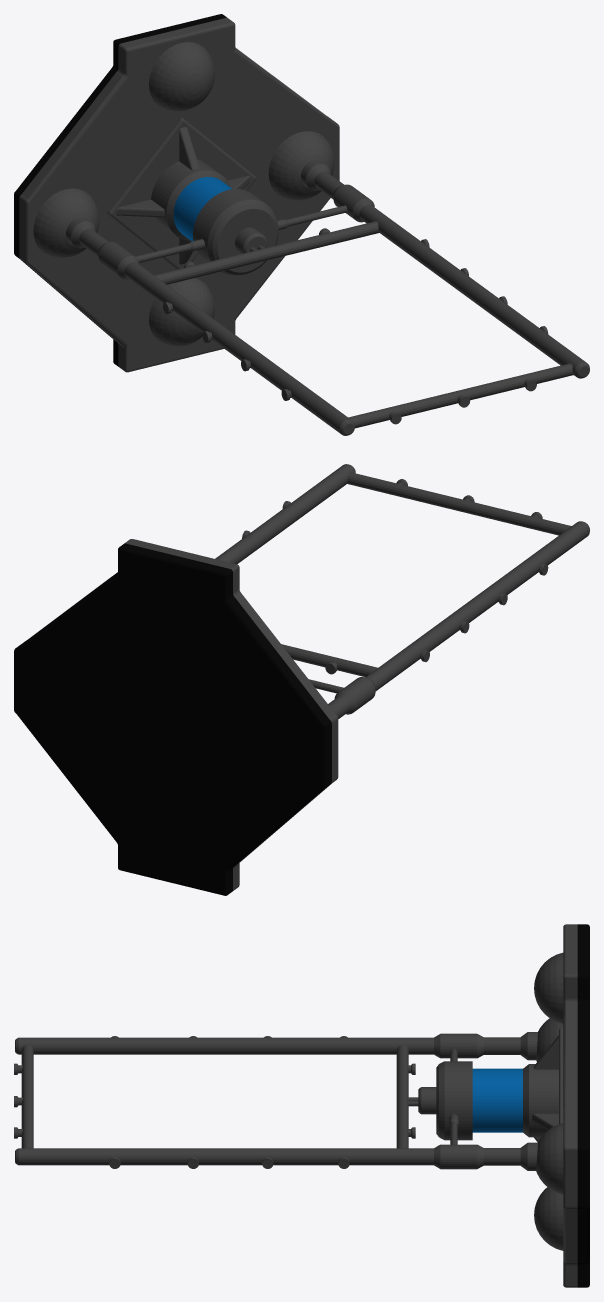
Rendered from Cassandra_Rack.obj.
The picture shows the model from 3 angles, top to bottom: view 1: azimuth 30°, elevation 25°; view 2: azimuth 150°, elevation 25°; view 3: azimuth 270°, elevation 25°; orthographic projection. The views are drawn at different scales.
Parts seen in each view (by area): view 1: Cassandra_Rack_Cube.006; view 2: Cassandra_Rack_Cube.006; view 3: Cassandra_Rack_Cube.006.
Part boxes in pixels (x1,y1,x2,y2): Cassandra_Rack_Cube.006: (14, 14, 589, 435); Cassandra_Rack_Cube.006: (14, 464, 589, 895); Cassandra_Rack_Cube.006: (14, 924, 589, 1287).
Size of the model in its own units: 12.41 by 12.25 by 20.43.
